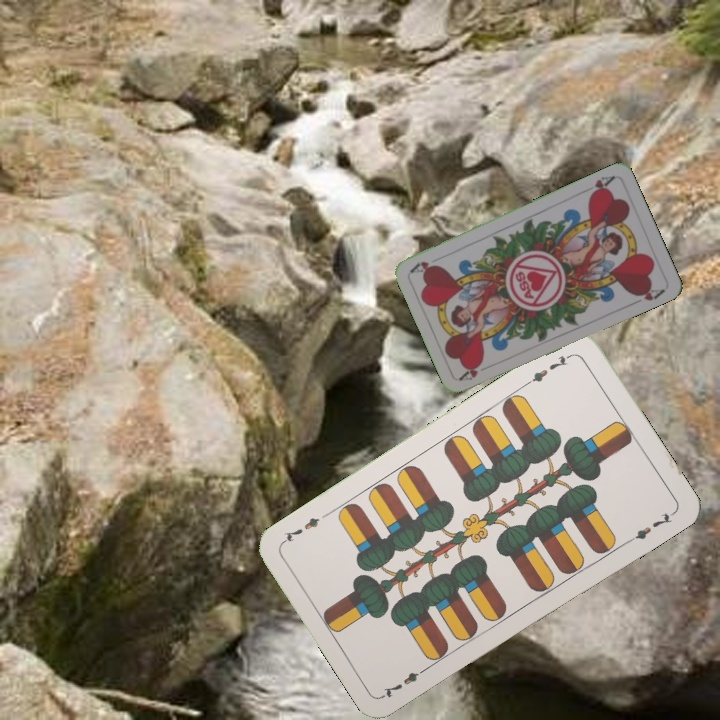E7: (522, 349, 575, 388), (379, 662, 432, 700)
HA: (579, 172, 617, 200), (456, 359, 495, 383)
